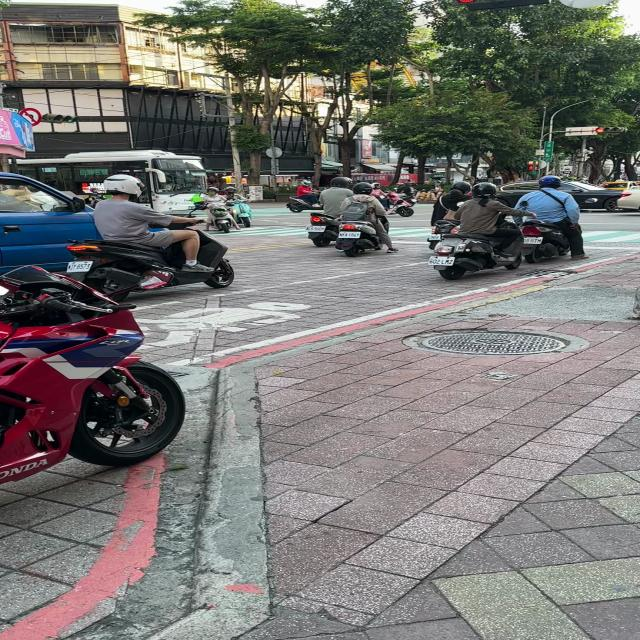bus: (15, 150, 207, 214)
crosswalk: (212, 225, 306, 239), (581, 229, 640, 244), (389, 226, 432, 238)
motocycle: (0, 266, 185, 483), (66, 231, 234, 301), (428, 231, 523, 280), (521, 221, 569, 262), (335, 219, 379, 256), (307, 211, 340, 246), (210, 202, 238, 232), (232, 199, 254, 228)
trunk: (0, 176, 99, 272)
